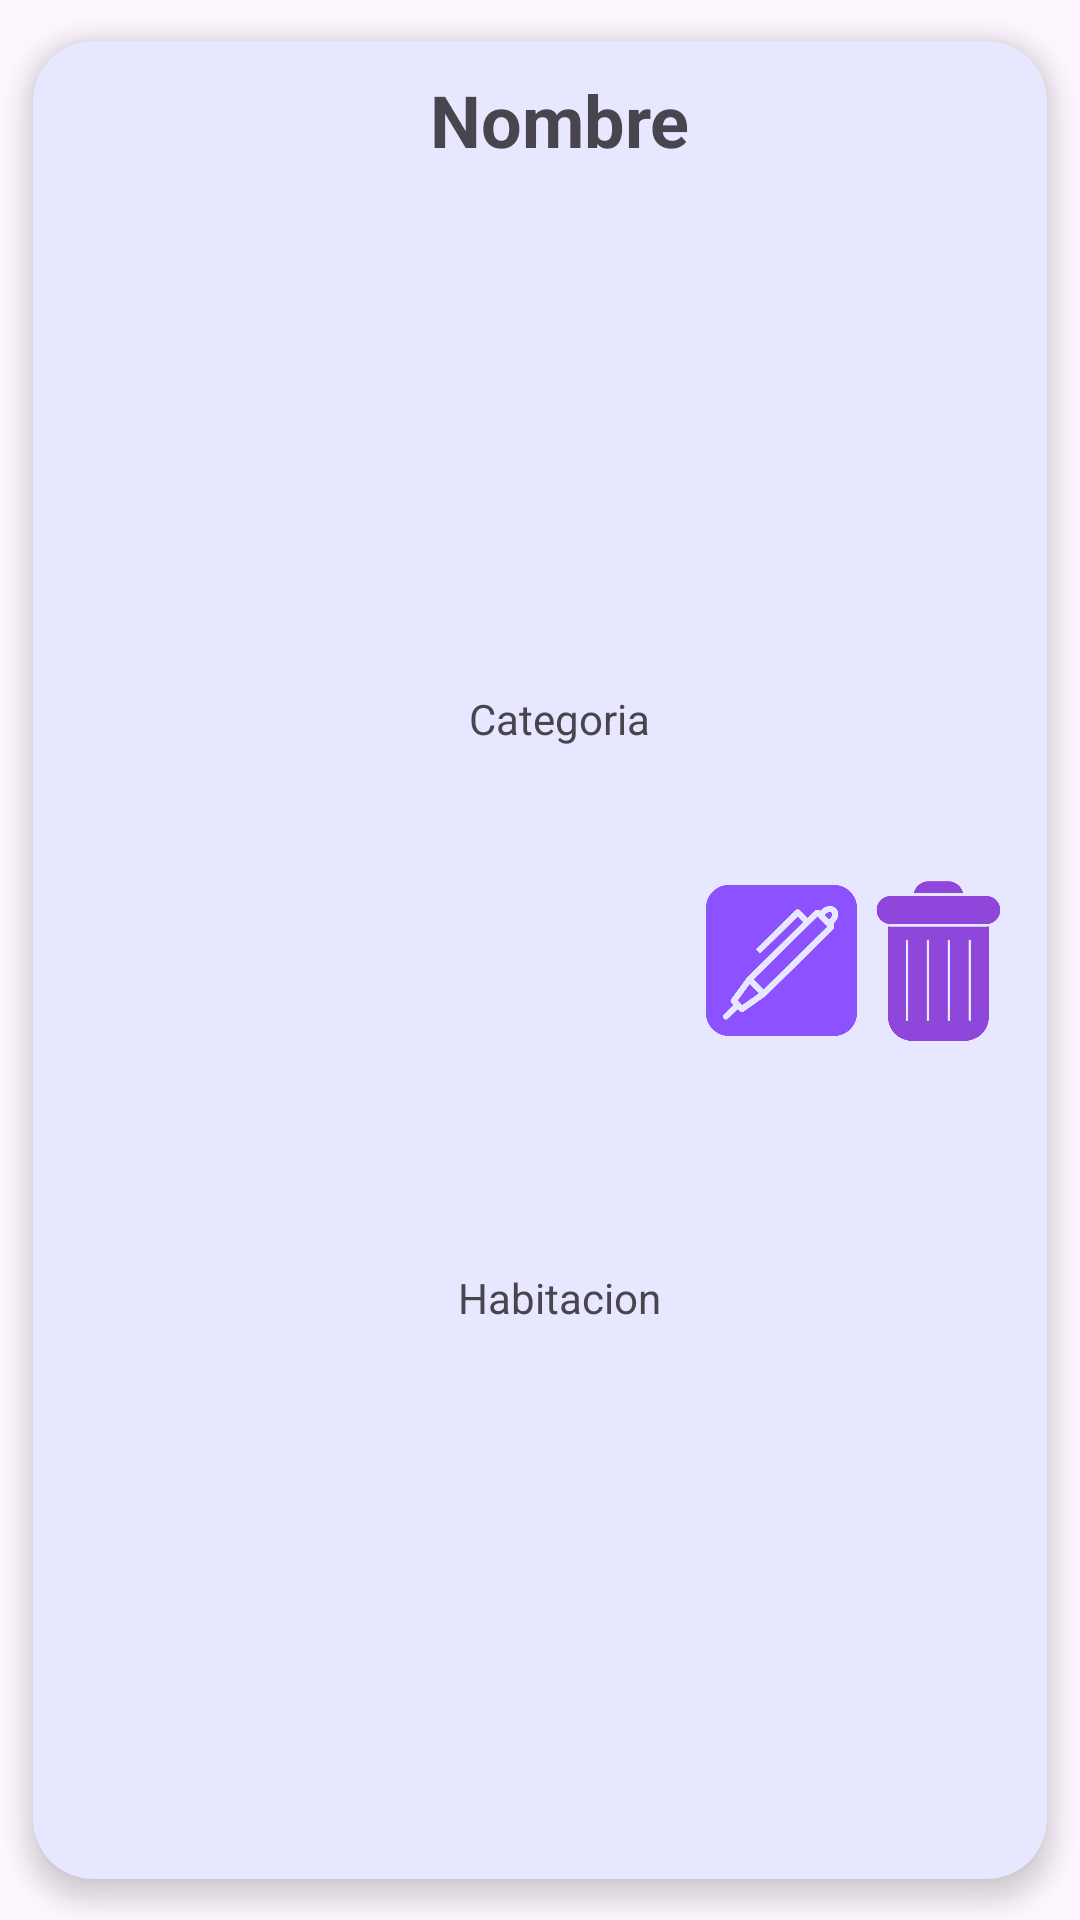

Icons on this 1080w x 1920h Android screen, each with its box as bbox=[x1, y1, x2, y2]:
delete: bbox=[876, 881, 1000, 1041]
edit: bbox=[706, 885, 857, 1036]
